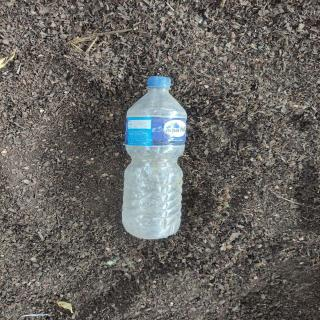Plastic-bottle: (120, 76, 190, 243)
